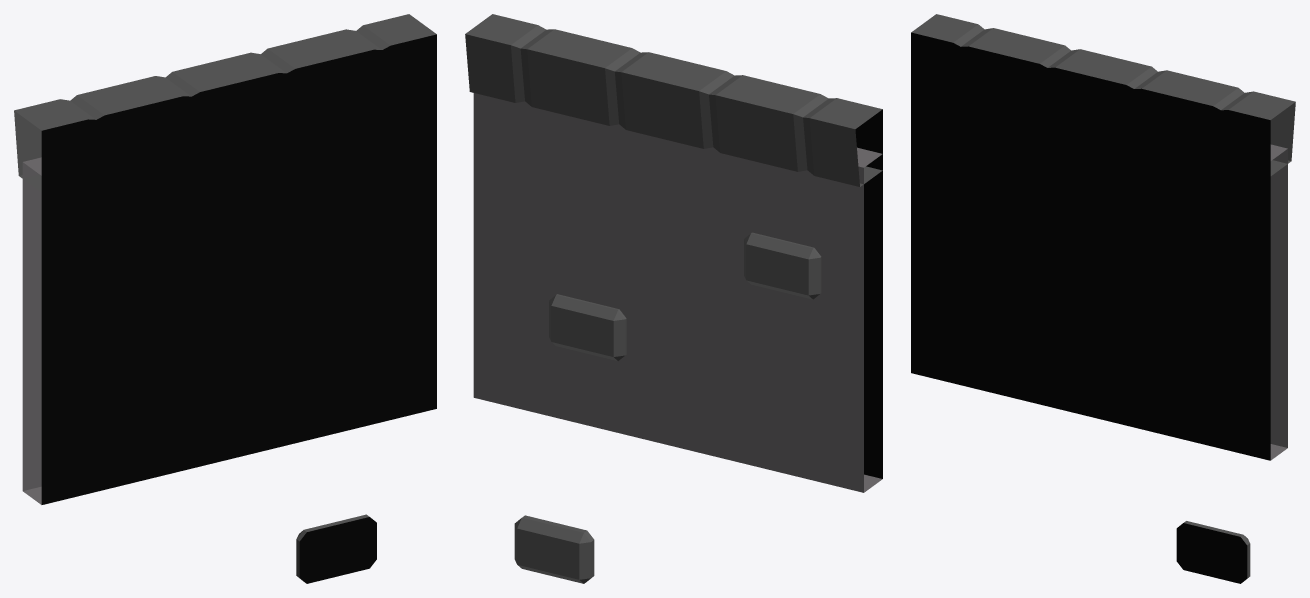
Rendered from Wall_3.fbx.
3 views of the same model, side by side, from view 1: azimuth 30°, elevation 25°; view 2: azimuth 150°, elevation 25°; view 3: azimuth 330°, elevation 25° (orthographic). The views are drawn at different scales.
Parts seen in each view (by area): view 1: Wall_3; view 2: Wall_3; view 3: Wall_3.
Boxes of the visible parts, x1=… form: Wall_3: x1=14, y1=14, x2=436, y2=583; Wall_3: x1=465, y1=14, x2=882, y2=583; Wall_3: x1=911, y1=14, x2=1295, y2=583.
Size of the model in its own units: 200 by 259 by 24.35.
